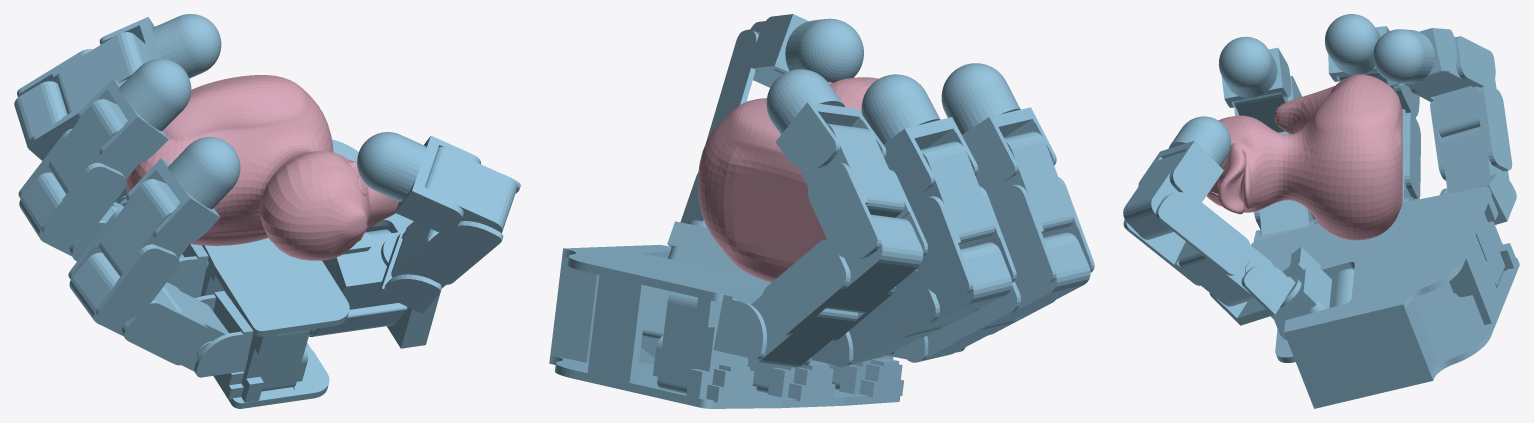
Rendered from Allegro_contactdb+rubber_duck_mesh.glb.
The picture shows the model from 3 angles, left to right: view 1: azimuth 30°, elevation 25°; view 2: azimuth 150°, elevation 25°; view 3: azimuth 270°, elevation 25°; orthographic projection. The views are drawn at different scales.
Visible parts, largest first — view 1: world; view 2: world; view 3: world.
Boxes of the visible parts, left/top/right/bottom form: world: left=14, top=14, right=520, bottom=408; world: left=549, top=14, right=1094, bottom=408; world: left=1123, top=14, right=1519, bottom=408.
Bounding box in the file's own units: 0.1754 × 0.1483 × 0.1764.
